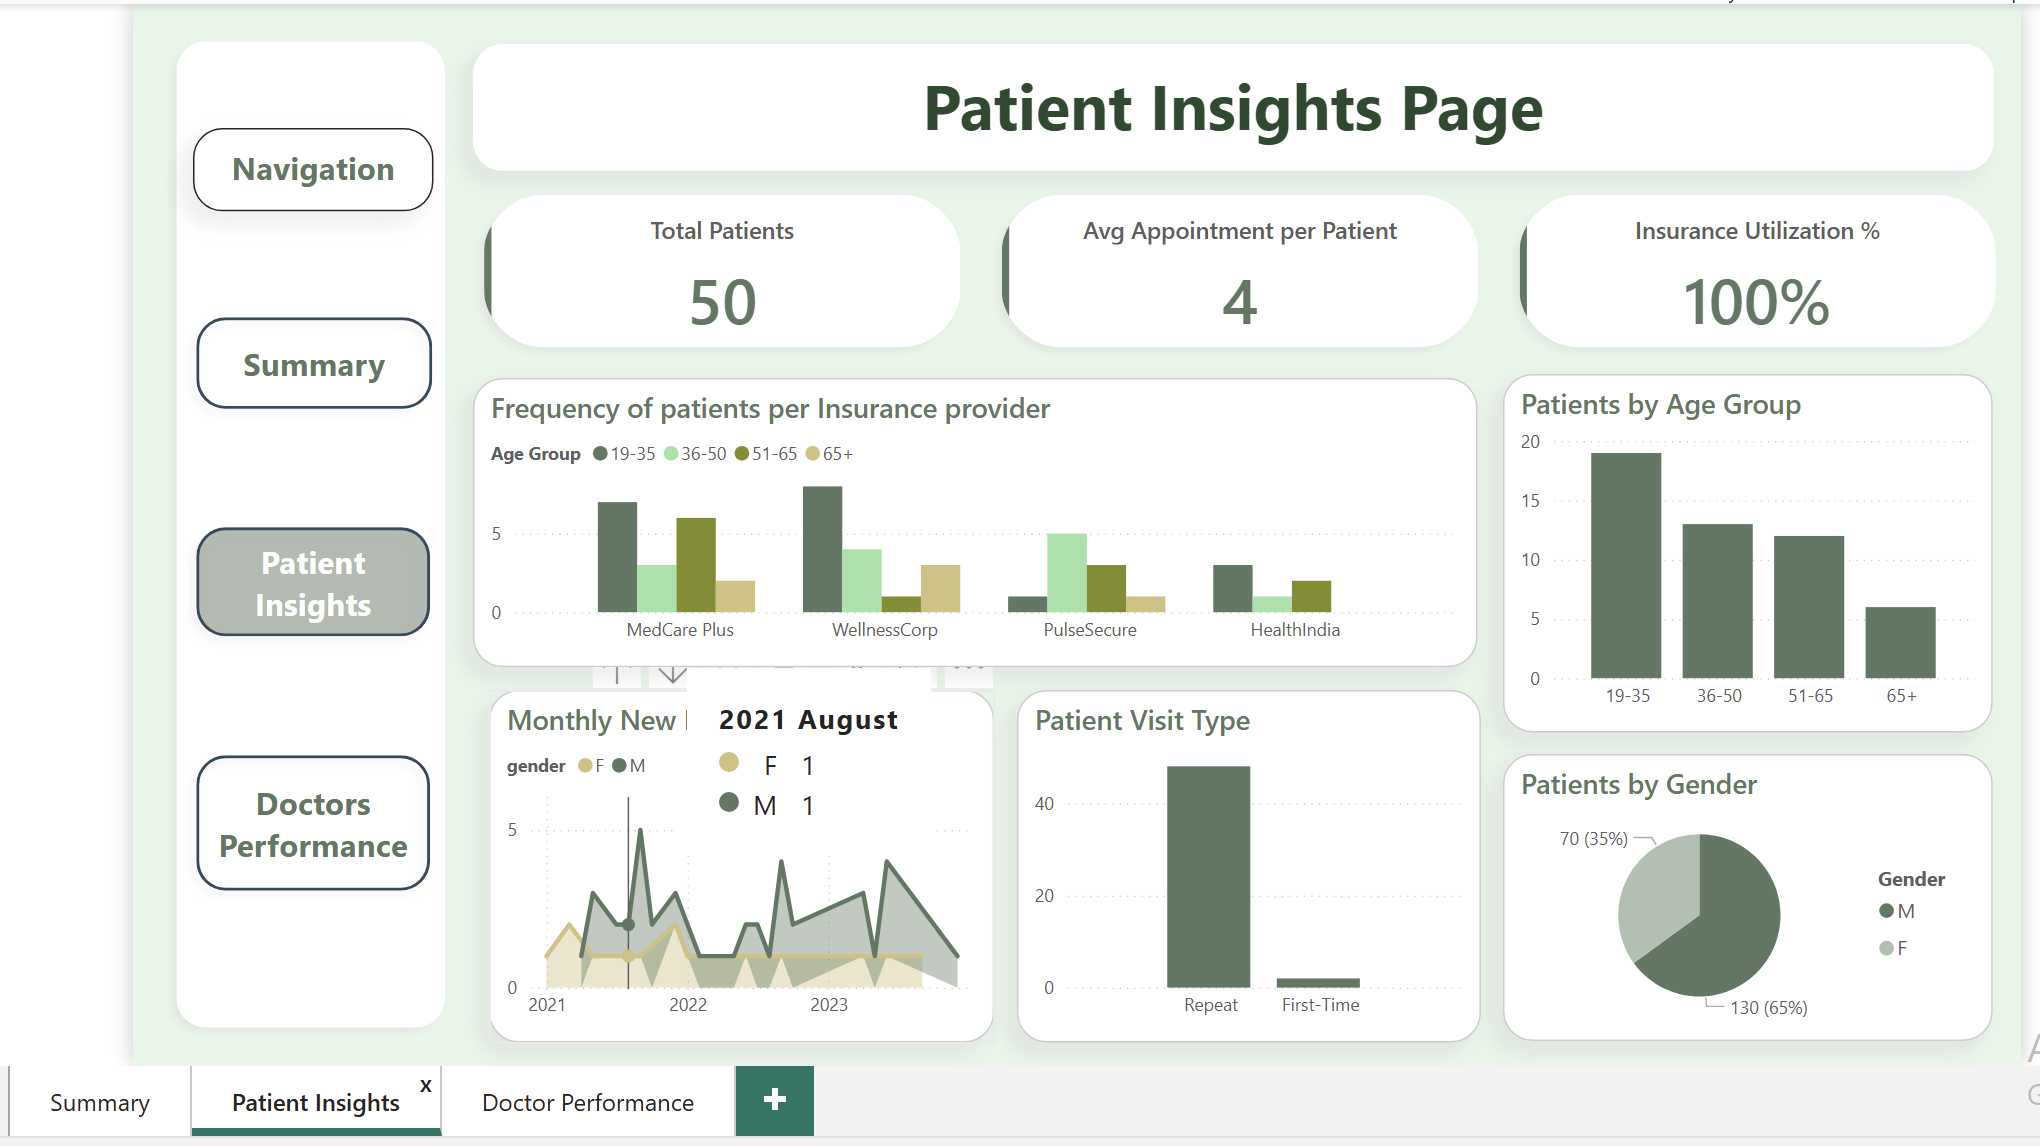

The dashboard page shown, as its layout file describes it:
{"tool":"powerbi","page":{"name":"Patient Insights","canvas":[1280,720],"ordinal":1},"visuals":[{"type":"shape","box":[20.8,16.3,200.2,686.7],"z":0},{"type":"textbox","box":[229.9,26.7,1030.8,86],"z":1000},{"type":"cardVisual","fields":{"Data":["All Measures.Total Patient","All Measures.Avg Appt per Patient","All Measures.Insurance Utilization %"]},"box":[221,112.7,1059,137.9],"z":7001},{"type":"pieChart","title":"Patients by Gender","fields":{"Y":["CountNonNull(appointments.patient_id)"],"Category":["patients.gender"]},"box":[928.5,508.7,332.2,194.3],"z":7002},{"type":"columnChart","fields":{"Y":["Count(patients.patient_id)"],"Category":["patients.Age Group"]},"box":[928.5,250.7,332.2,243.2],"z":7003},{"type":"stackedAreaChart","title":"Monthly New Patients","fields":{"Category":["patients.registration_date.Variation.Date Hierarchy.Year","patients.registration_date.Variation.Date Hierarchy.Month"],"Y":["CountNonNull(patients.patient_id)"],"Series":["patients.gender"]},"box":[241.8,465.7,342.6,238.8],"z":7004},{"type":"clusteredColumnChart","title":"Frequency of patients per Insurance provider","fields":{"Category":["patients.insurance_provider"],"Y":["CountNonNull(patients.patient_id)"],"Series":["patients.Age Group"]},"box":[229.9,253.6,680.8,195.8],"z":7005},{"type":"columnChart","title":"Patient Visit Type","fields":{"Category":["patients.Patient Visit Type"],"Y":["CountNonNull(patients.patient_id)"]},"box":[599.2,465.7,314.4,238.8],"z":7006},{"type":"textbox","box":[40.8,84.5,163.2,56.4],"z":7007},{"type":"actionButton","title":"Summary","box":[33.4,203.2,178,80.1],"z":7008},{"type":"actionButton","title":"Summary","box":[34.1,345.6,176.5,92],"z":7009},{"type":"actionButton","title":"Summary","box":[34.1,499.8,176.5,109.8],"z":7010}]}

Visuals, with their boxes on the page's 1280x720 design canvas (x1, y1, x2, y2). These are canvas units, not pixel positions in the 2040x1146 screenshot, which may show the page scaled, cropped or inside an application window:
shape: bbox=[21, 16, 221, 703]
textbox: bbox=[230, 27, 1261, 113]
cardVisual - All Measures.Total Patient x All Measures.Avg Appt per Patient: bbox=[221, 113, 1280, 251]
"Patients by Gender" pieChart: bbox=[928, 509, 1261, 703]
columnChart - Count(patients.patient_id) x patients.Age Group: bbox=[928, 251, 1261, 494]
"Monthly New Patients" stackedAreaChart: bbox=[242, 466, 584, 704]
"Frequency of patients per Insurance provider" clusteredColumnChart: bbox=[230, 254, 911, 449]
"Patient Visit Type" columnChart: bbox=[599, 466, 914, 704]
textbox: bbox=[41, 84, 204, 141]
"Summary" actionButton: bbox=[33, 203, 211, 283]
"Summary" actionButton: bbox=[34, 346, 211, 438]
"Summary" actionButton: bbox=[34, 500, 211, 610]
